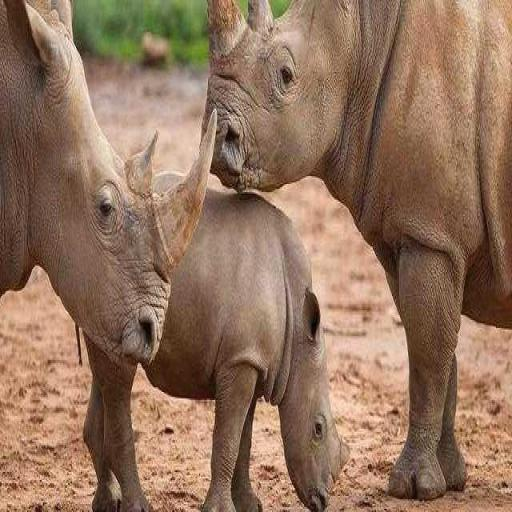Elephant: (199, 0, 511, 501), (0, 0, 217, 510)
